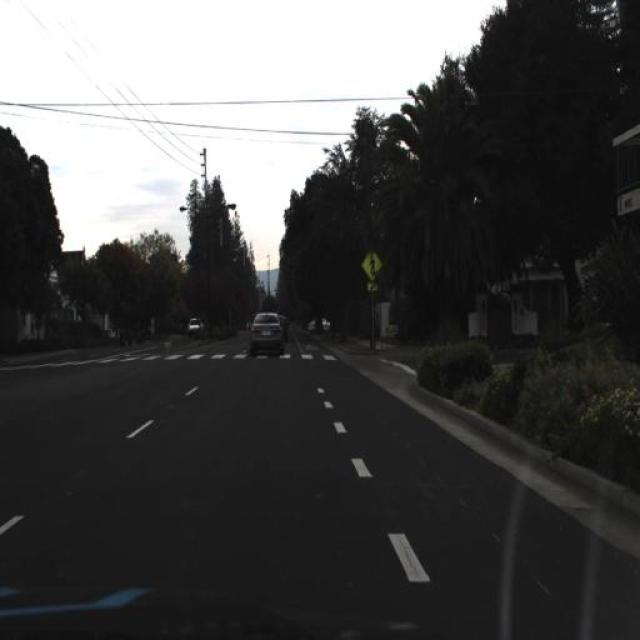car: (241, 298, 287, 372), (184, 314, 208, 345), (304, 310, 328, 334), (278, 308, 292, 348), (277, 313, 289, 355)
